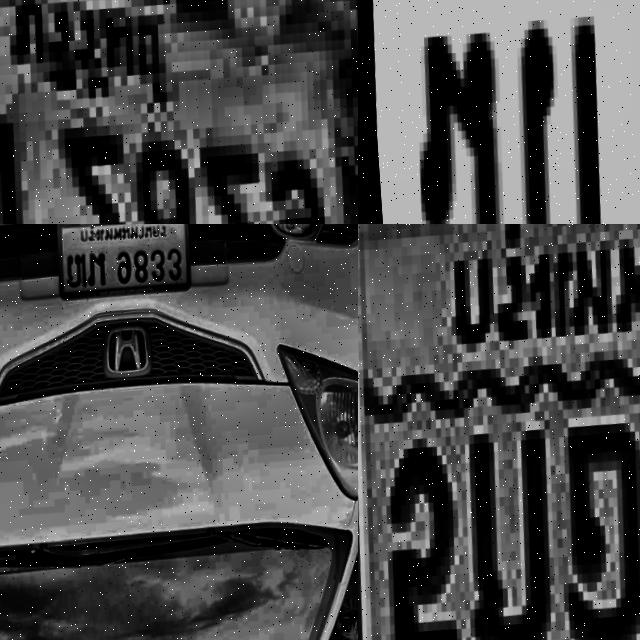license-plate: (358, 224, 640, 640), (0, 0, 358, 224), (358, 0, 640, 224), (50, 224, 190, 311)
